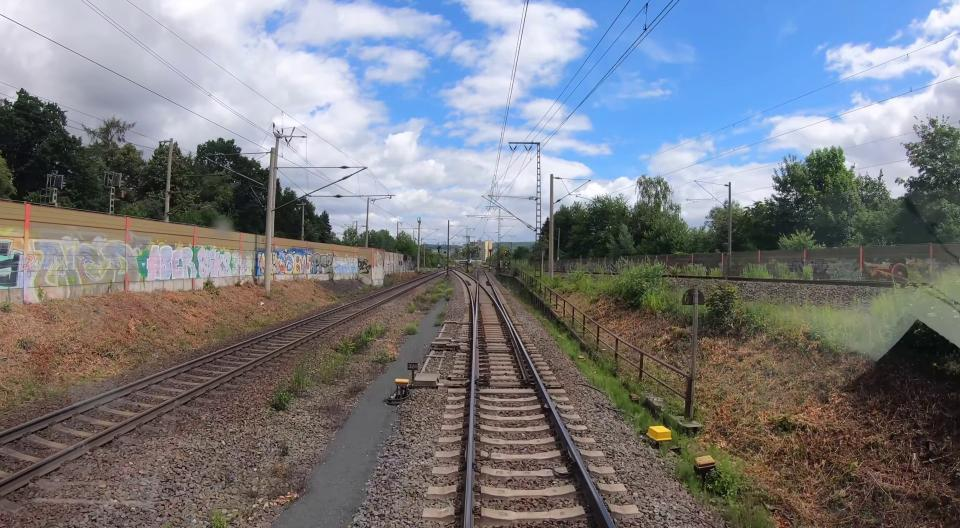Plant: (532, 308, 664, 433), (660, 421, 775, 528), (313, 324, 386, 383), (270, 368, 312, 411), (406, 279, 453, 314), (210, 510, 229, 528), (373, 351, 396, 365), (404, 320, 420, 335), (434, 307, 446, 326)
